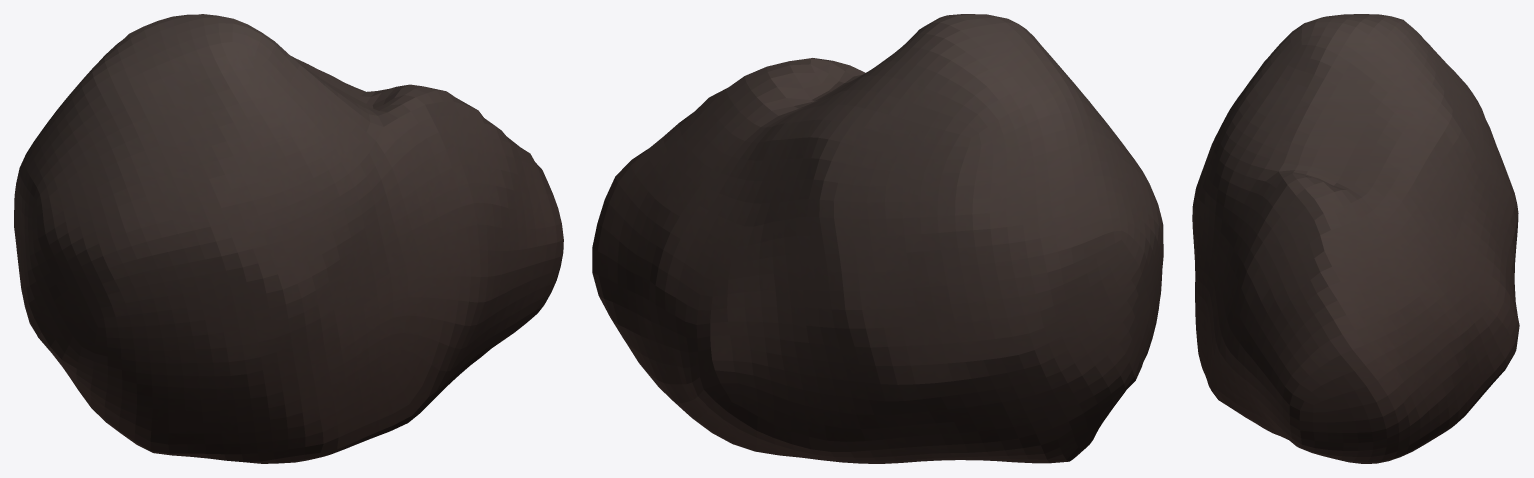
File: Rock16_Textured.fbx
3 views of the same model, side by side, from view 1: azimuth 30°, elevation 25°; view 2: azimuth 150°, elevation 25°; view 3: azimuth 270°, elevation 25° (orthographic). The views are drawn at different scales.
Visible parts, largest first — view 1: GameJam_Rock2_ModelZbrush:Group52284; view 2: GameJam_Rock2_ModelZbrush:Group52284; view 3: GameJam_Rock2_ModelZbrush:Group52284.
Boxes of the visible parts, x1,y1,x2,y2 form: GameJam_Rock2_ModelZbrush:Group52284: [14, 14, 563, 463]; GameJam_Rock2_ModelZbrush:Group52284: [592, 14, 1163, 463]; GameJam_Rock2_ModelZbrush:Group52284: [1192, 14, 1519, 463].
Size of the model in its own units: 1.82 by 1.42 by 1.19.
1 material, 1 textured.
